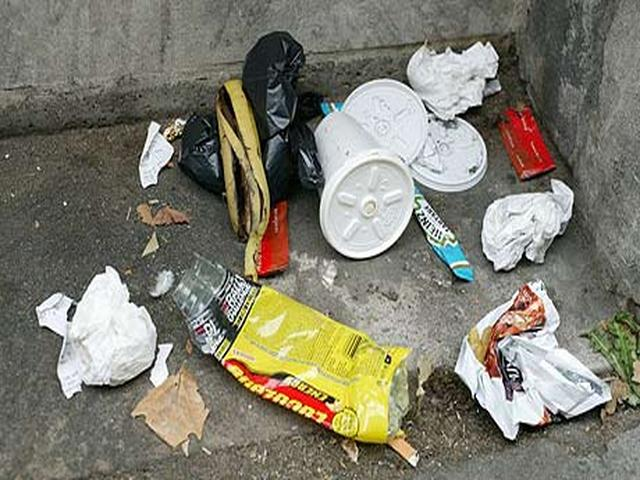garbage: (183, 93, 559, 406)
